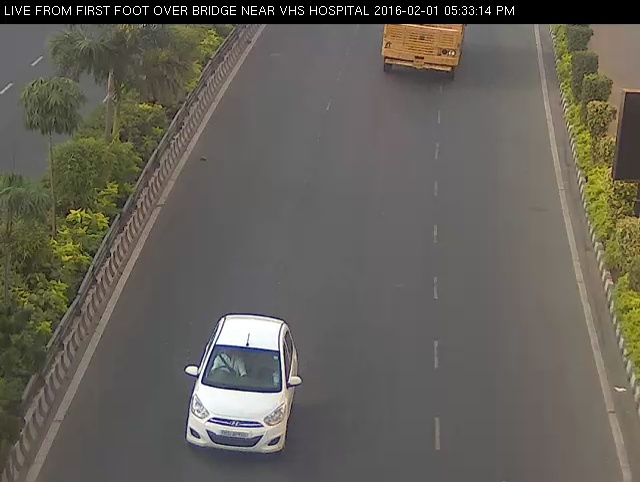Bus: (367, 19, 471, 91)
Car: (174, 301, 306, 466)
